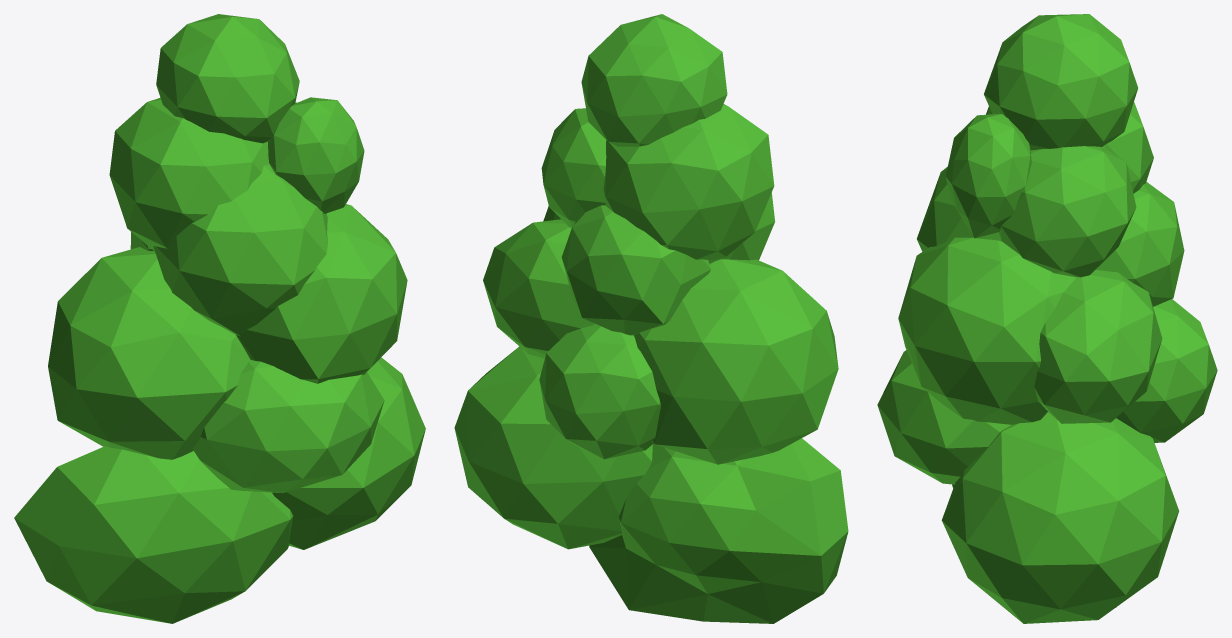
File: tree2.glb
3 renders of one model, left to right at view 1: azimuth 30°, elevation 25°; view 2: azimuth 150°, elevation 25°; view 3: azimuth 270°, elevation 25°, orthographic. The views are drawn at different scales.
Visible parts, largest first — view 1: Icosphere; view 2: Icosphere; view 3: Icosphere.
Part boxes in pixels (x1,y1,x2,y2): Icosphere: (14,14,425,623); Icosphere: (454,14,848,623); Icosphere: (877,14,1217,623).
Size of the model in its own units: 3.02 by 4.52 by 2.3.
